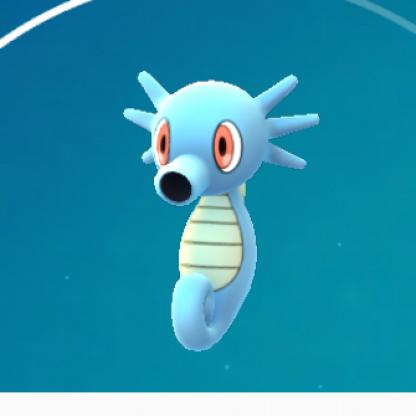Horsea: (119, 61, 334, 367)
